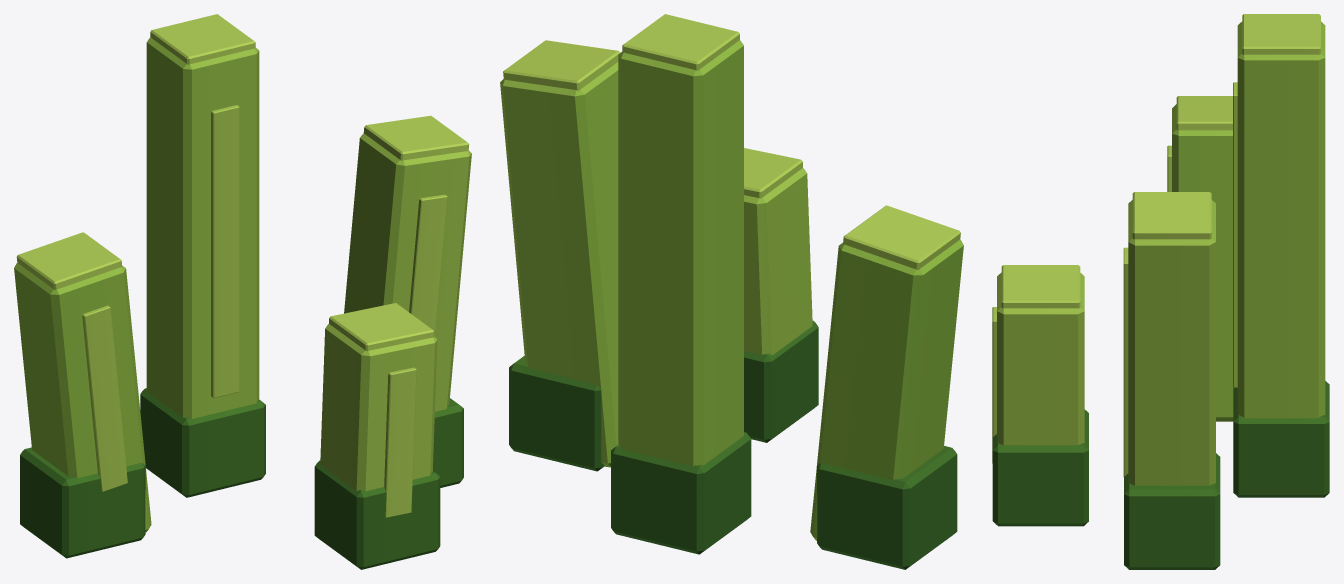
Rendered from BrickGrass.glb.
The picture shows the model from 3 angles, left to right: view 1: azimuth 30°, elevation 25°; view 2: azimuth 150°, elevation 25°; view 3: azimuth 270°, elevation 25°; orthographic projection. The views are drawn at different scales.
Visible parts, largest first — view 1: BrickGrass; view 2: BrickGrass; view 3: BrickGrass.
Part boxes in pixels (box(x1,y1,x2,y2)): BrickGrass: box(14, 14, 471, 569); BrickGrass: box(500, 14, 963, 569); BrickGrass: box(992, 14, 1329, 569).
Bounding box in the file's own units: 1.05 × 1.11 × 0.75.
1 material, 1 textured.
